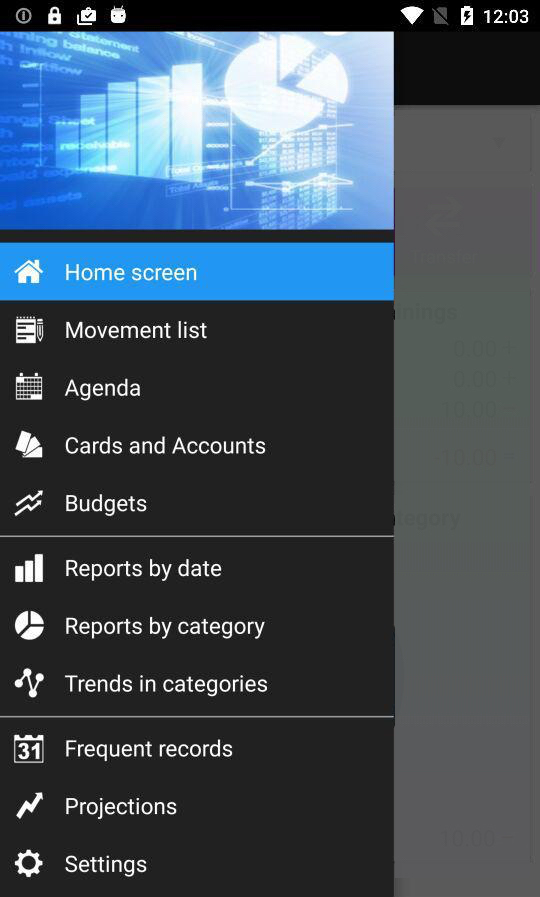Drawer: (1, 33, 394, 896)
Icon: (14, 734, 46, 765), (14, 553, 45, 584), (16, 315, 46, 345), (15, 430, 45, 460), (15, 372, 44, 402), (14, 849, 44, 878), (16, 791, 45, 820), (15, 489, 45, 517), (13, 259, 45, 285)
Image: (1, 33, 394, 230), (14, 667, 46, 699), (15, 610, 46, 641)
Text: (66, 615, 266, 640), (65, 674, 269, 698), (66, 435, 267, 456), (66, 739, 234, 763), (66, 558, 223, 582), (66, 321, 209, 341), (66, 797, 178, 821), (66, 264, 198, 282), (65, 854, 148, 879), (66, 493, 148, 518), (65, 378, 142, 403)
UpperTaskBar: (1, 1, 540, 33)
